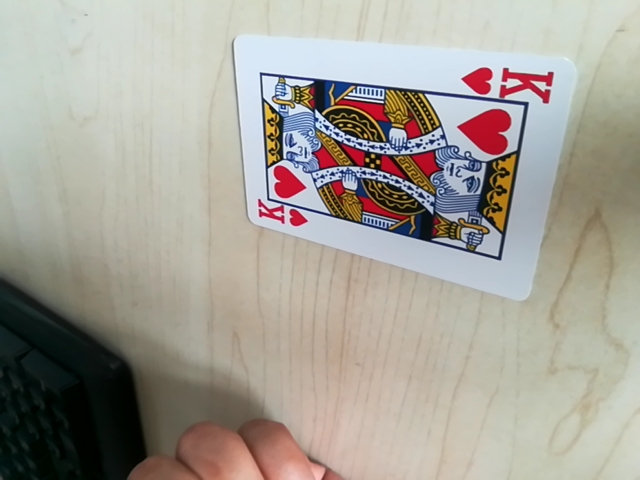hx k: (464, 60, 558, 105), (252, 201, 305, 231)
